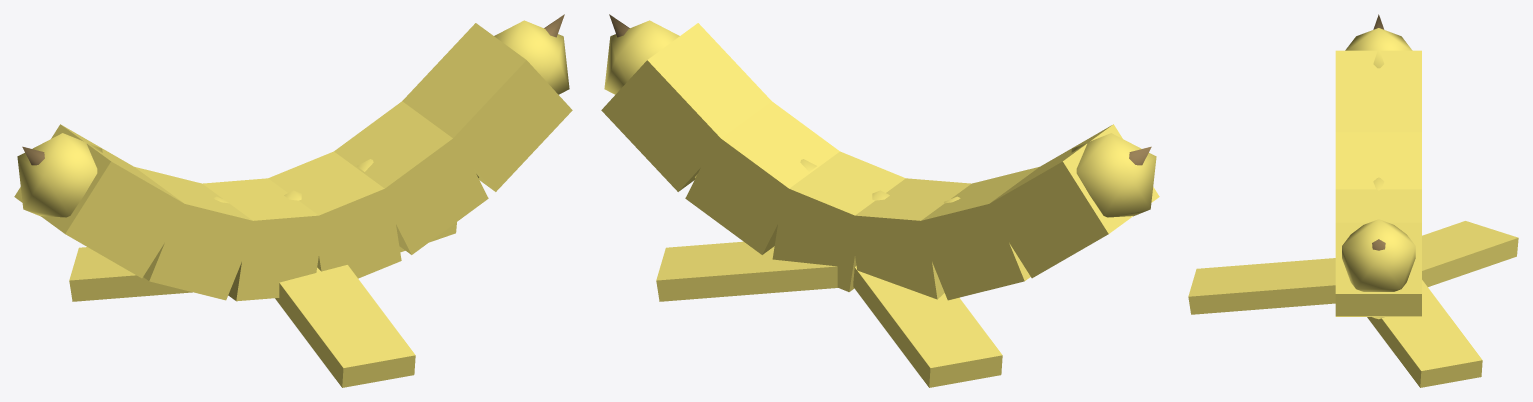
Rendered from banana.gltf.
3 renders of one model, left to right at view 1: azimuth 30°, elevation 25°; view 2: azimuth 150°, elevation 25°; view 3: azimuth 270°, elevation 25°, orthographic. The views are drawn at different scales.
Visible parts, largest first — view 1: banana; view 2: banana; view 3: banana.
Boxes of the visible parts, bbox=[...] form: banana: bbox=[14, 14, 572, 387]; banana: bbox=[601, 14, 1159, 387]; banana: bbox=[1188, 14, 1518, 387].
Size of the model in its own units: 0.8 by 0.3098 by 0.4961.
